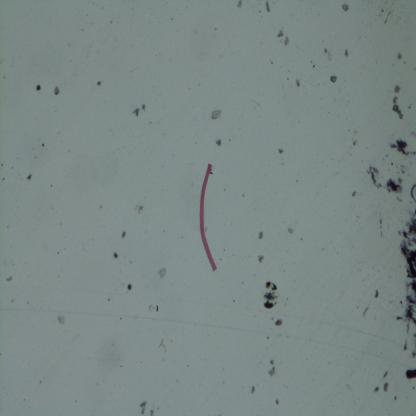Background material: (379, 4, 403, 27), (263, 280, 281, 310), (391, 95, 404, 119), (320, 44, 334, 61), (158, 337, 168, 352), (268, 359, 276, 377), (134, 203, 144, 216), (140, 400, 148, 416), (211, 109, 222, 120), (148, 304, 158, 314), (57, 314, 66, 325), (160, 267, 168, 279), (341, 2, 350, 12), (362, 306, 370, 317), (379, 218, 383, 239), (373, 288, 380, 300), (132, 107, 140, 117), (273, 318, 283, 326), (351, 136, 358, 147), (384, 381, 390, 393), (257, 254, 264, 264), (257, 230, 264, 240), (283, 36, 289, 47), (286, 227, 294, 235), (394, 84, 402, 92), (53, 86, 60, 95), (35, 84, 42, 92), (352, 190, 360, 197), (276, 148, 284, 155), (330, 76, 338, 83), (295, 78, 300, 89), (278, 30, 284, 39), (266, 0, 270, 13), (26, 174, 32, 182), (120, 230, 126, 238), (237, 0, 242, 9), (250, 386, 256, 393), (384, 372, 390, 379), (397, 53, 403, 60), (127, 283, 132, 291), (141, 104, 146, 112), (216, 139, 221, 147), (113, 251, 118, 259), (374, 387, 380, 393), (346, 384, 351, 391), (6, 277, 12, 282), (96, 80, 101, 86), (150, 409, 154, 416), (344, 50, 348, 57), (276, 398, 280, 405), (394, 396, 398, 401), (1, 178, 5, 182), (266, 336, 270, 340), (74, 400, 78, 403), (6, 225, 10, 228), (56, 251, 60, 254), (41, 143, 44, 147), (312, 64, 315, 68), (100, 206, 103, 209), (39, 381, 42, 384), (50, 184, 52, 188), (10, 300, 14, 302), (108, 298, 110, 302), (120, 317, 122, 320), (12, 167, 14, 169), (1, 164, 3, 166)
Microfibre: (198, 163, 218, 273)
Pen: (361, 136, 416, 382)
